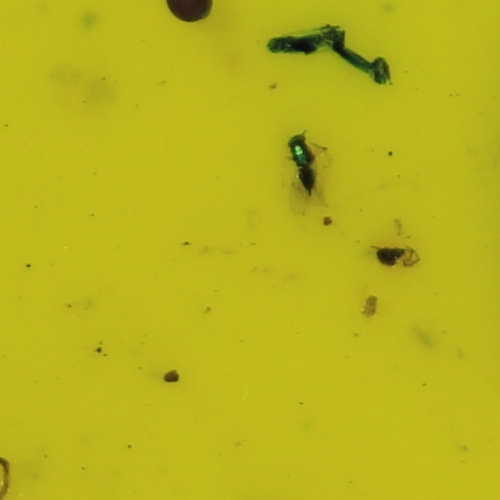Psyllaephagus: (286, 128, 318, 196)
